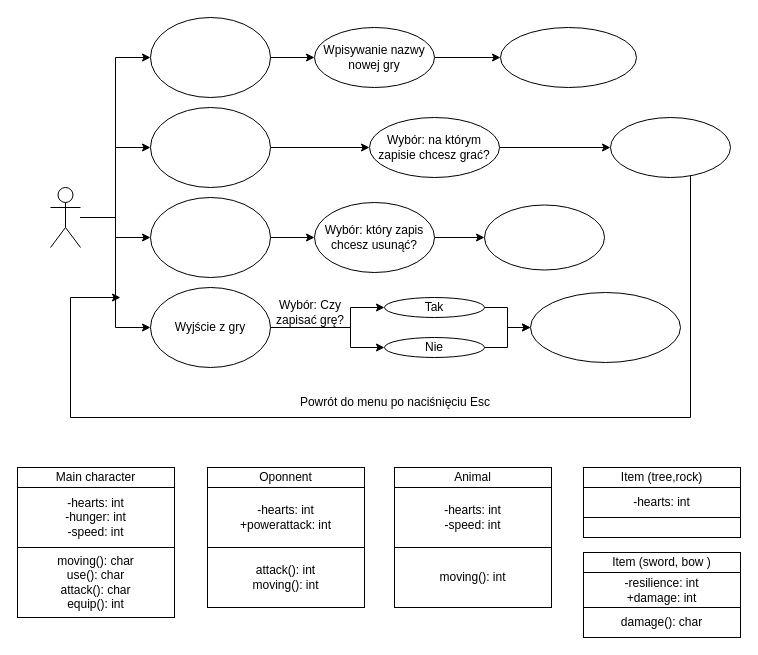
Some shapes in this 758 by 655 pixel diagram are drawn without their labels. Each missing label, with the box of its shape:
Actor: (50, 186, 80, 248)
Nowa Gra: (150, 16, 270, 98)
Potwierdzenie usunięcia zapisu: (484, 204, 604, 270)
Potwierdzenie utworzenia nowej gry: (500, 26, 636, 88)
Potwierdzenie wyjścia z aplikacji: (530, 292, 680, 362)
Usuń zapisaną grę: (150, 196, 270, 278)
Wczytaj grę: (150, 106, 270, 188)
Wykonywanie misji i wyborów w grze: (610, 116, 730, 178)
